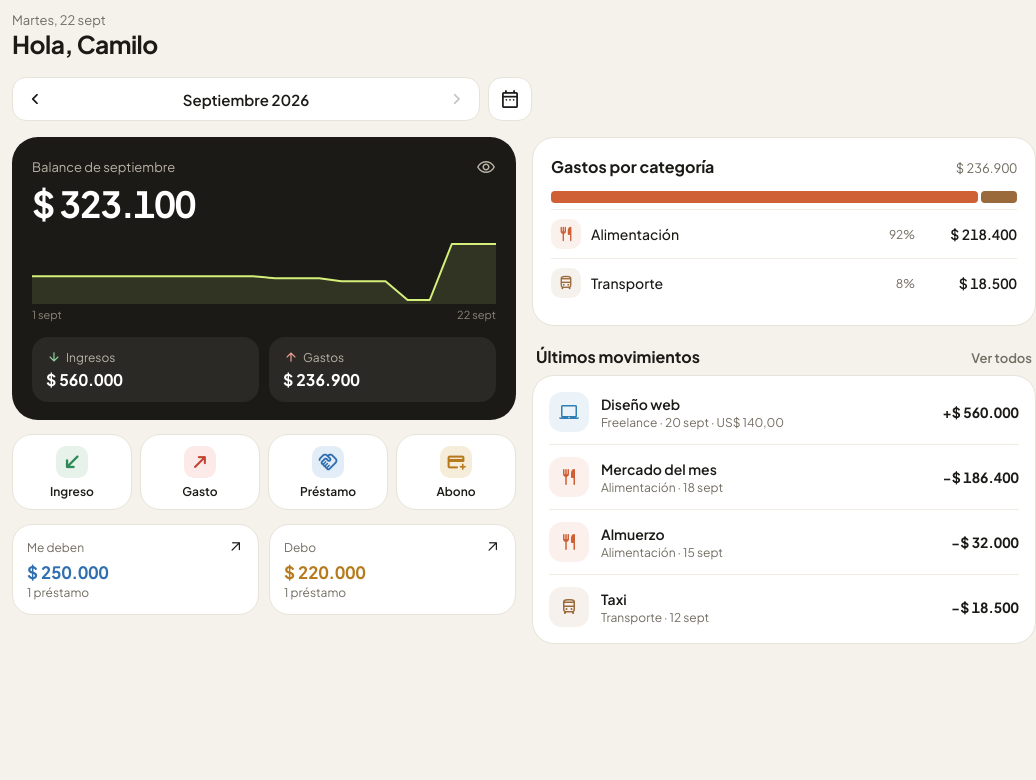
Scenario: Inicio › el ojo oculta el balance pero no los ultimos movimientos
Click the button named "Ocultar los montos" at point(486, 167), box [476, 157, 496, 177]
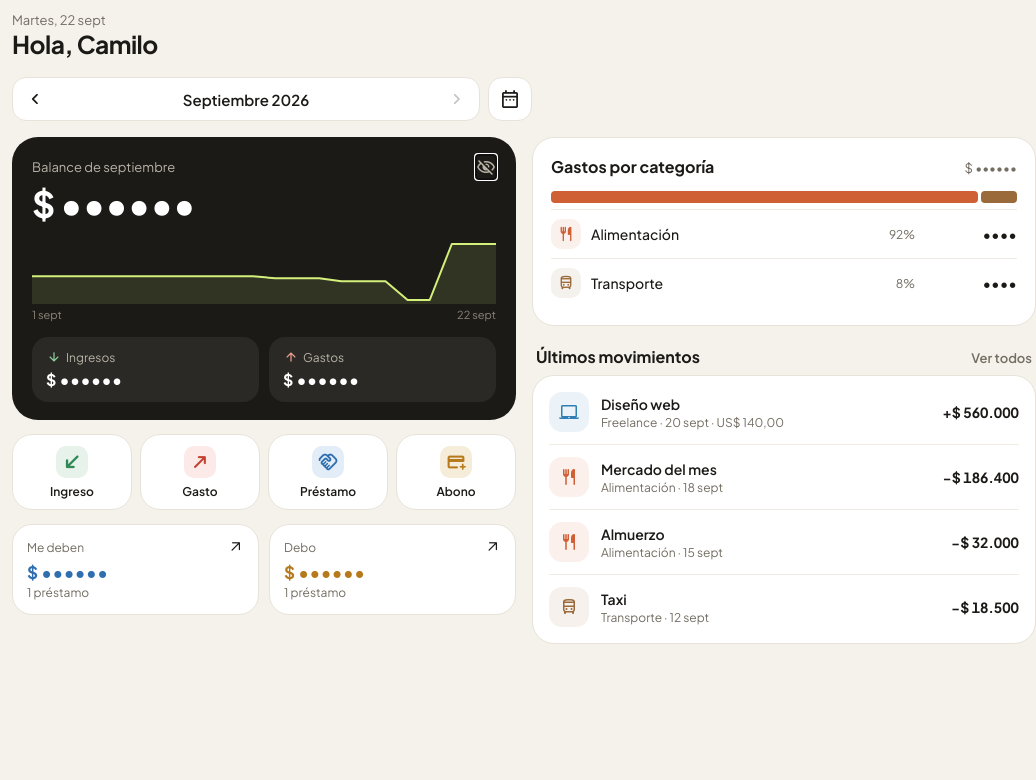
expect the text labelled "$ 323.100" is gone: met
expect the text named "Importe oculto" is shown: met, box [32, 181, 195, 226]
expect the button named "Mostrar los montos" is shown: met, box [476, 157, 496, 177]
